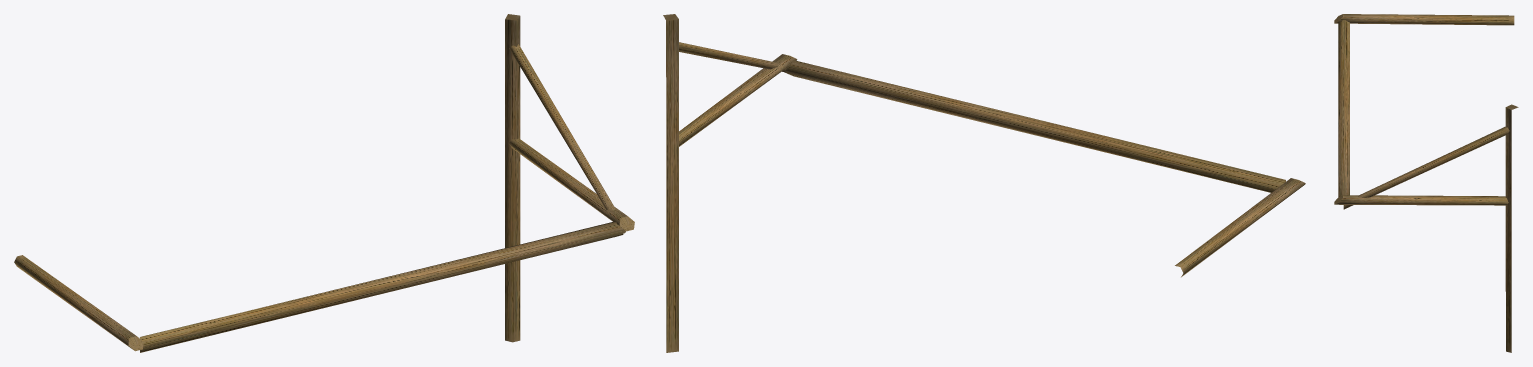
File: M7Z1_CityWall3A4_Poles.glb
The picture shows the model from 3 angles, left to right: view 1: azimuth 30°, elevation 25°; view 2: azimuth 150°, elevation 25°; view 3: azimuth 270°, elevation 25°; orthographic projection. The views are drawn at different scales.
Parts seen in each view (by area): view 1: M7Z1_CITYWALL3A4_POLES; view 2: M7Z1_CITYWALL3A4_POLES; view 3: M7Z1_CITYWALL3A4_POLES.
Part boxes in pixels (x1,y1,x2,y2): M7Z1_CITYWALL3A4_POLES: (14,14,634,352); M7Z1_CITYWALL3A4_POLES: (663,14,1305,352); M7Z1_CITYWALL3A4_POLES: (1334,14,1518,352).
Bounding box in the file's own units: 8.25 × 5 × 3.44.
Materials: 1 (1 with a texture image).
